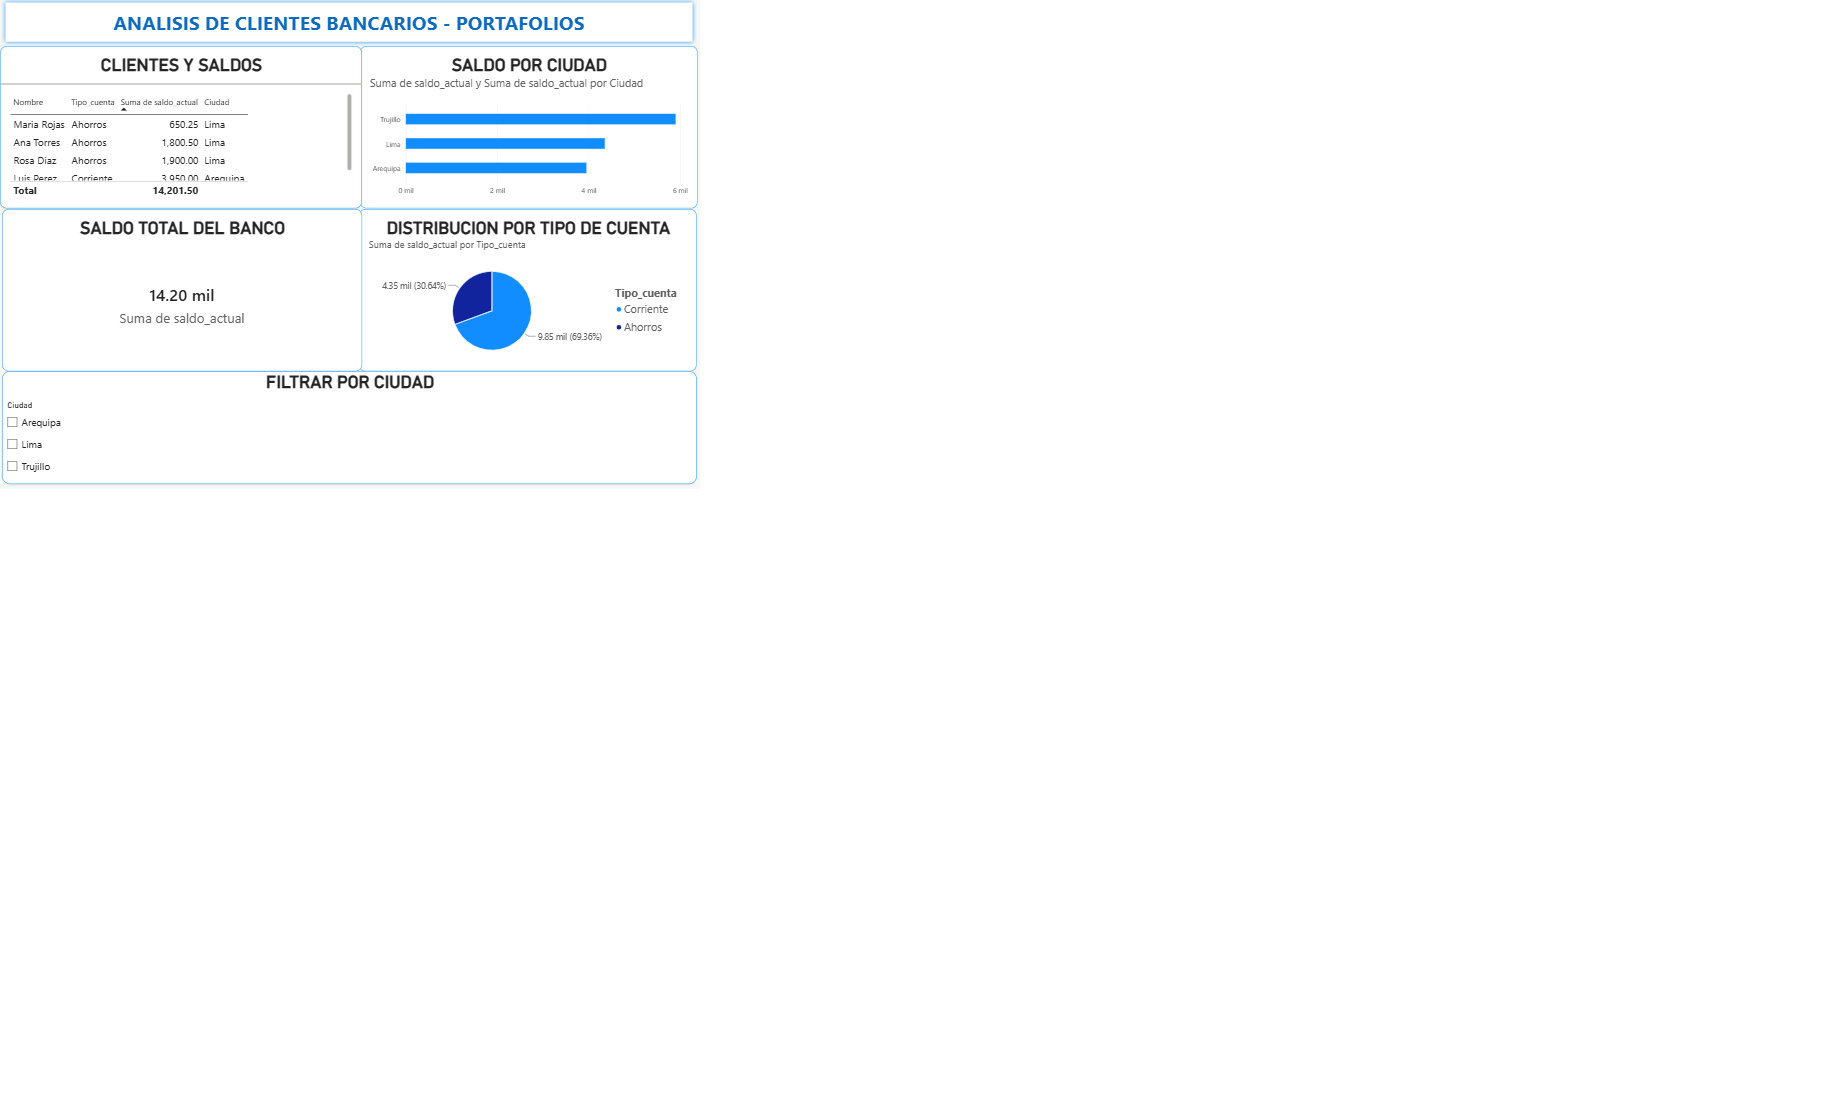

Layout of this report page (visuals, bound fields, positions):
{"tool":"powerbi","page":{"name":"Página 1","canvas":[1920,1080],"ordinal":0},"visuals":[{"type":"clusteredBarChart","title":"SALDO POR CIUDAD","fields":{"Category":["Saldos_actuales.Ciudad"],"Y":["Sum(Saldos_actuales.saldo_actual)","Sum(Saldos_actuales.saldo_actual)"]},"box":[646,118,582,280],"z":0},{"type":"pieChart","title":"DISTRIBUCION POR TIPO DE CUENTA","fields":{"Category":["Saldos_actuales.Tipo_cuenta"],"Y":["Sum(Saldos_actuales.saldo_actual)"]},"box":[645.2,398.8,582.5,280],"z":1000},{"type":"tableEx","title":"CLIENTES Y SALDOS","fields":{"Values":["Saldos_actuales.Nombre","Saldos_actuales.Tipo_cuenta","Sum(Saldos_actuales.saldo_actual)","Saldos_actuales.Ciudad"]},"box":[26,118,624,280],"z":2000},{"type":"slicer","title":"FILTRAR POR CIUDAD","fields":{"Values":["Saldos_actuales.Ciudad"]},"box":[30,678.3,1198.3,195],"z":3000},{"type":"shape","box":[28.3,35,1200,83.3],"z":3002},{"type":"card","title":"SALDO TOTAL DEL BANCO","fields":{"Values":["Sum(Saldos_actuales.saldo_actual)"]},"box":[29.1,398.8,620.6,280],"z":3003}]}

Visuals, with their boxes on the page's 1920x1080 design canvas (x1, y1, x2, y2). These are canvas units, not pixel positions in the 1846x1102 screenshot, which may show the page scaled, cropped or inside an application window:
"SALDO POR CIUDAD" clusteredBarChart: (x1=646, y1=118, x2=1228, y2=398)
"DISTRIBUCION POR TIPO DE CUENTA" pieChart: (x1=645, y1=399, x2=1228, y2=679)
"CLIENTES Y SALDOS" tableEx: (x1=26, y1=118, x2=650, y2=398)
"FILTRAR POR CIUDAD" slicer: (x1=30, y1=678, x2=1228, y2=873)
shape: (x1=28, y1=35, x2=1228, y2=118)
"SALDO TOTAL DEL BANCO" card: (x1=29, y1=399, x2=650, y2=679)
